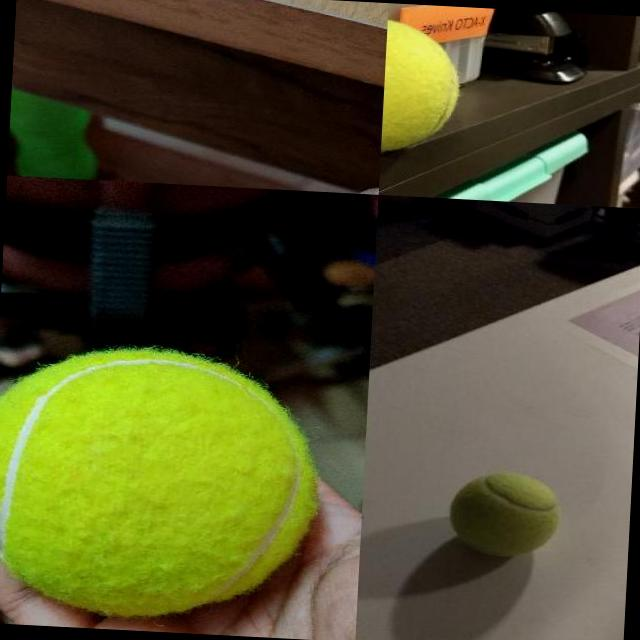Tennis Ball: (0, 341, 324, 626), (382, 15, 466, 165), (446, 469, 566, 561)
